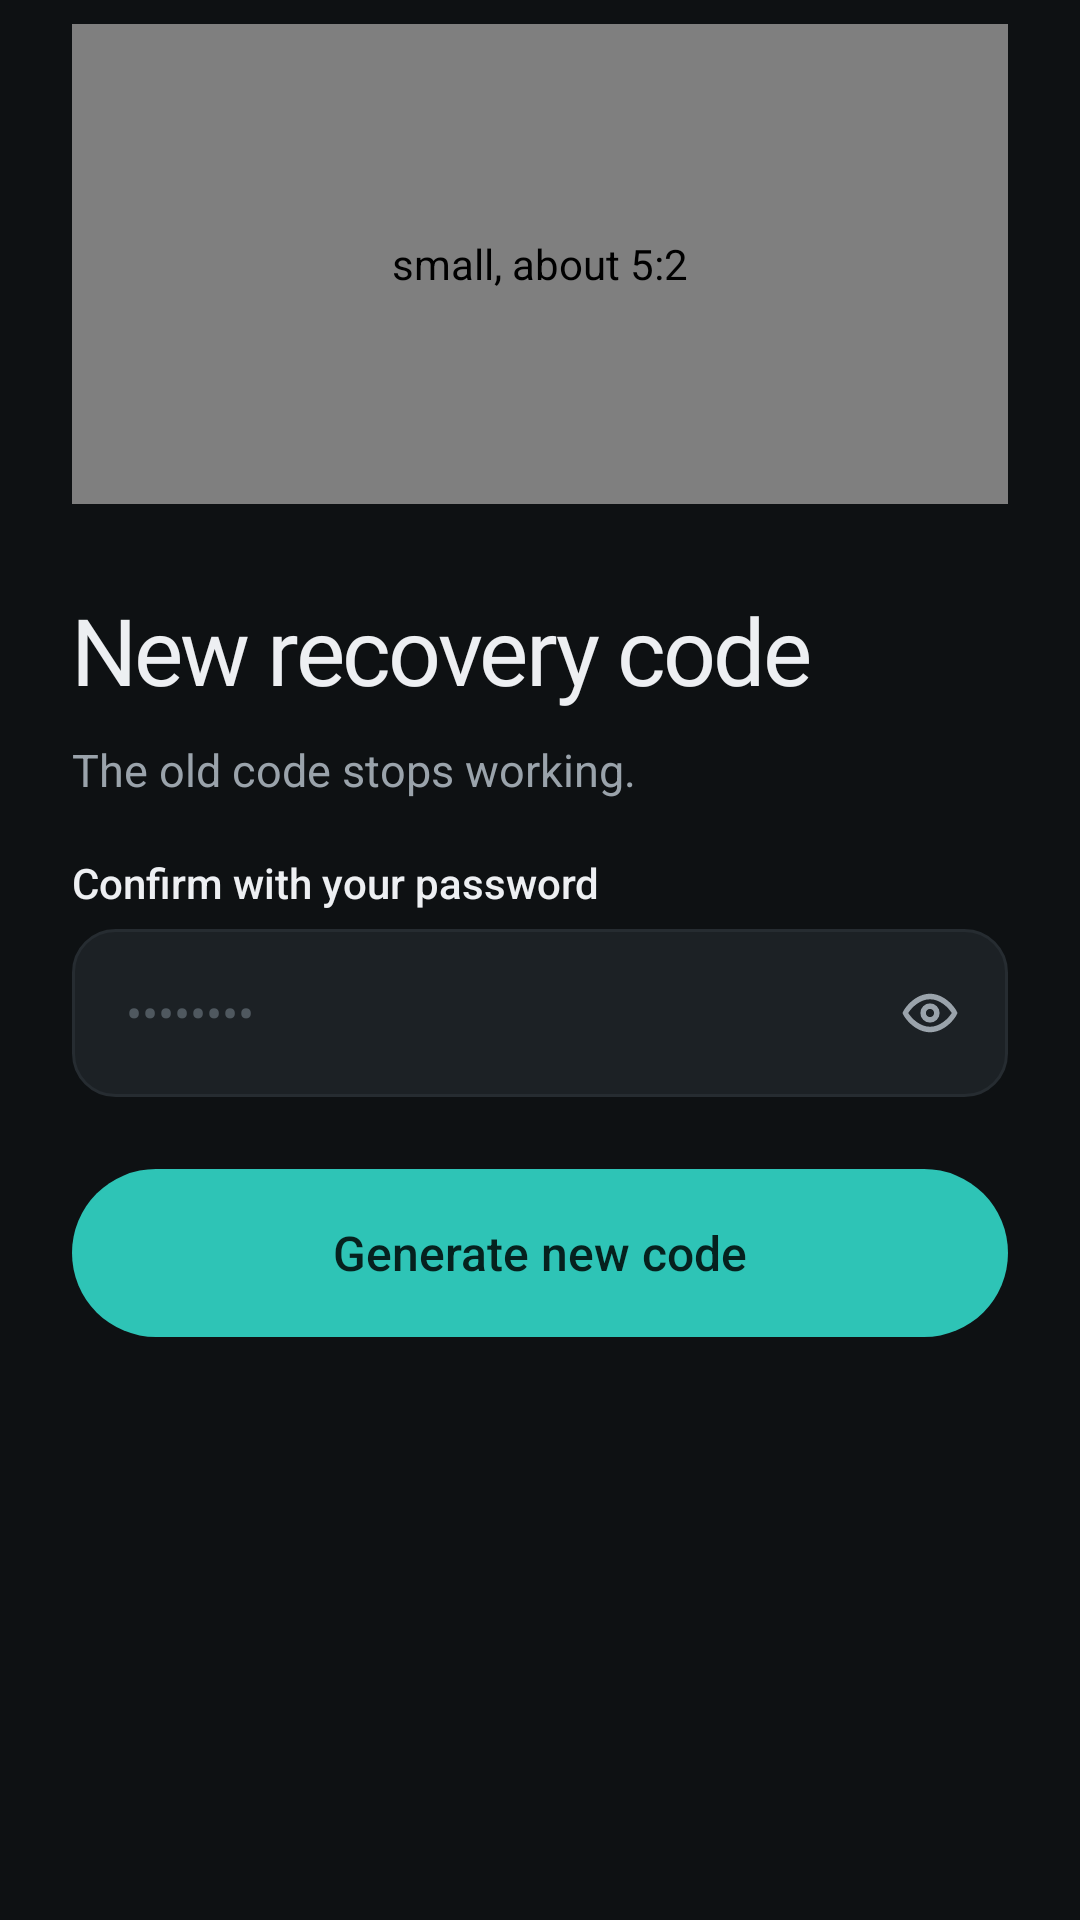

Where icons sit on this 1080x1920 app screen, as (x1, y1, x2, y2):
Show password: (902, 993, 958, 1033)
